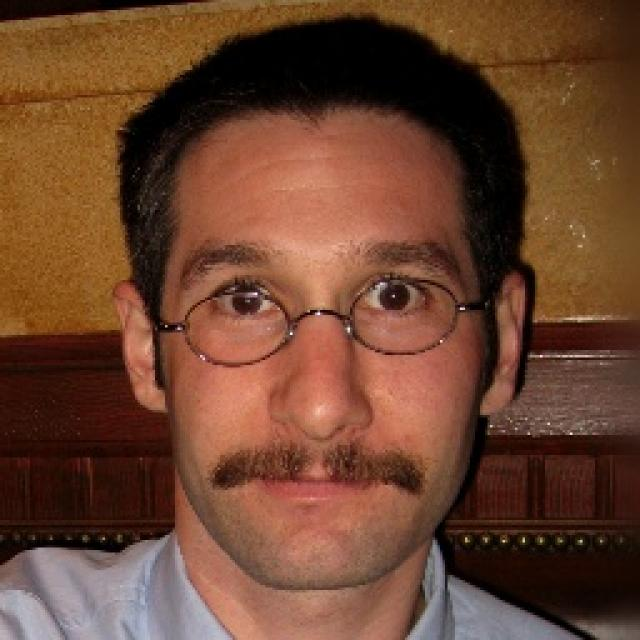earlobe: (478, 382, 518, 416), (134, 376, 168, 412)
eye: (208, 279, 282, 320), (358, 279, 430, 318)
nose: (269, 414, 371, 462)
wholeear: (479, 271, 530, 417), (112, 282, 169, 412)
